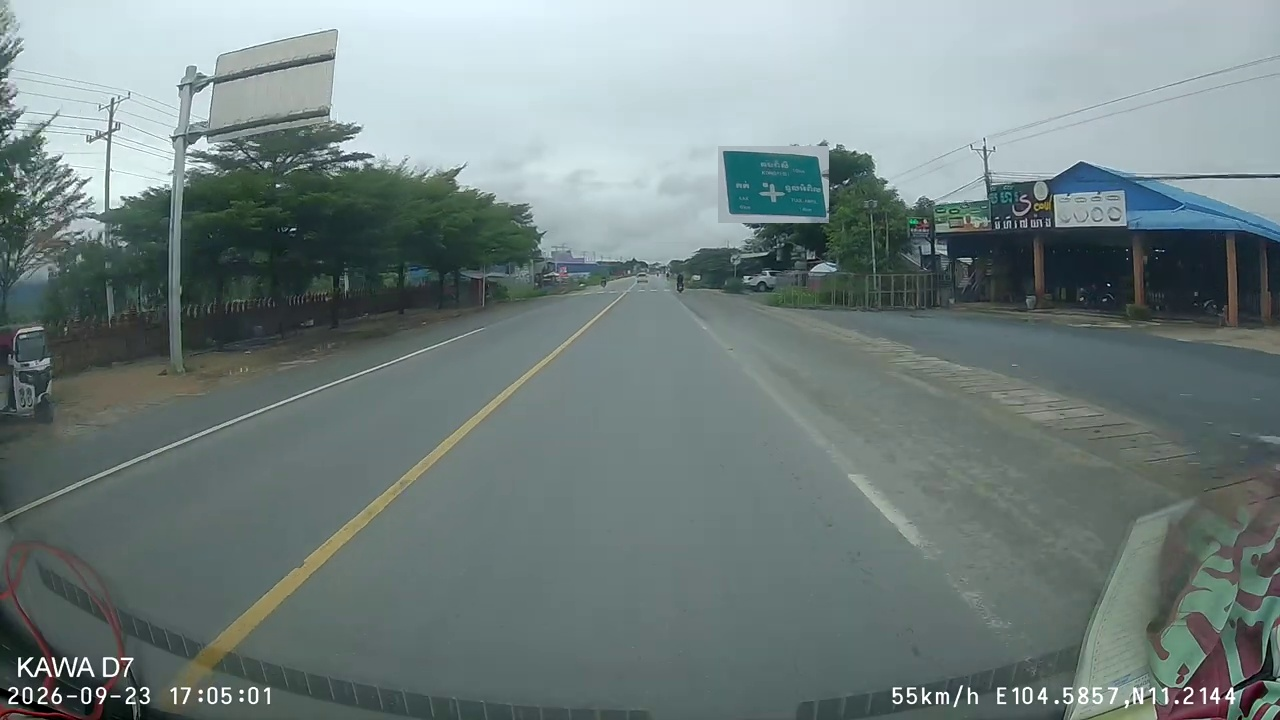direction_sign: (718, 146, 829, 223)
